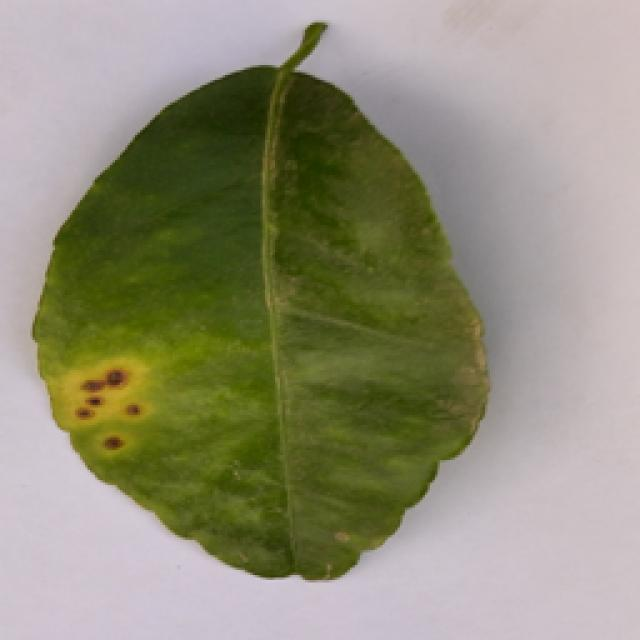canker: (73, 119, 439, 547)
